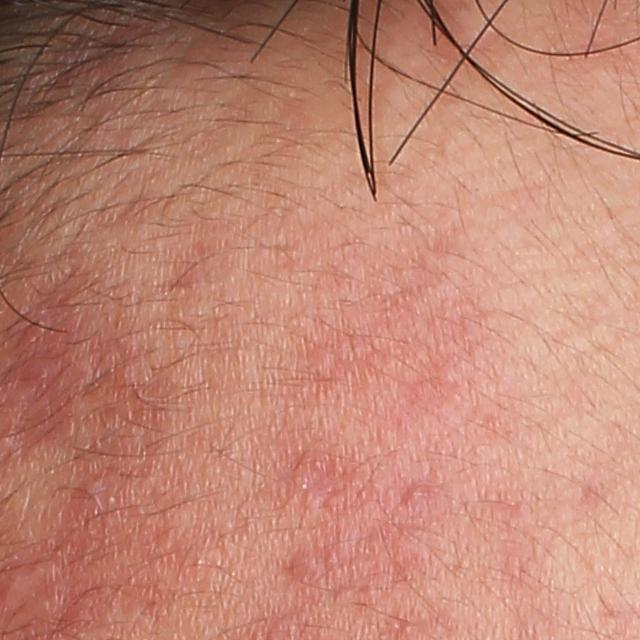papule: (402, 477, 435, 513)
